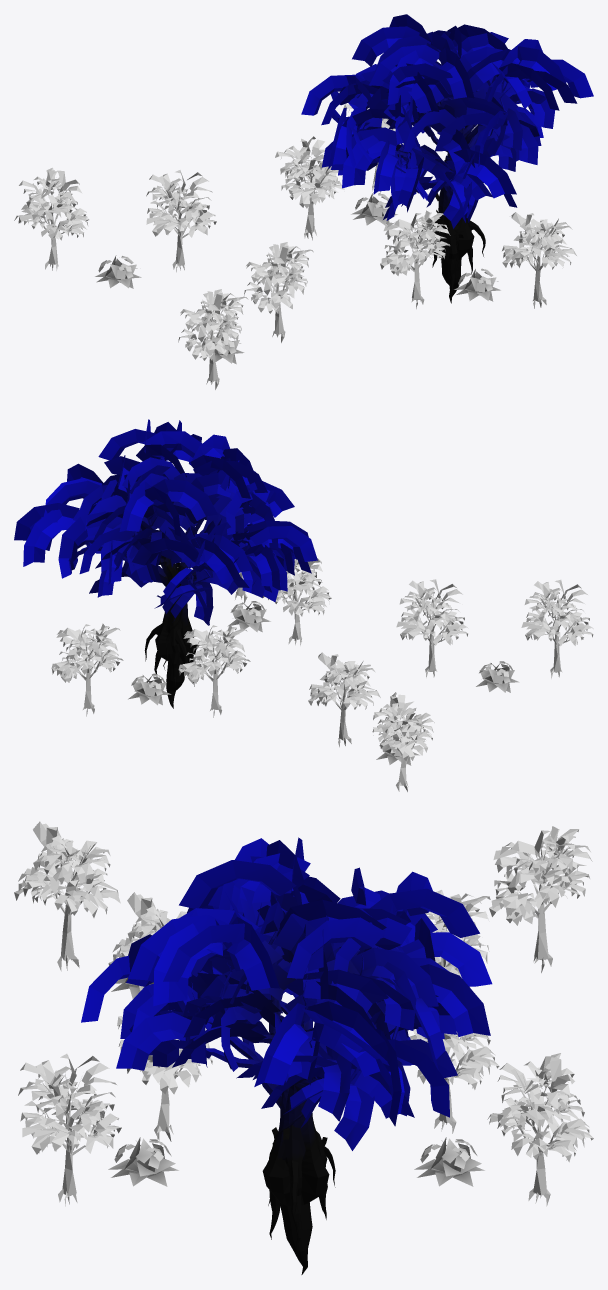
The model's file is STA_58.fbx.
3 views of the same model, one above another, from view 1: azimuth 30°, elevation 25°; view 2: azimuth 150°, elevation 25°; view 3: azimuth 270°, elevation 25° (orthographic). The views are drawn at different scales.
Visible parts, largest first — view 1: STA_58; view 2: STA_58; view 3: STA_58.
Part boxes in pixels (x1,y1,x2,y2): STA_58: [14, 14, 593, 389]; STA_58: [14, 419, 593, 791]; STA_58: [14, 821, 593, 1274].
Size of the model in its own units: 6734 by 3631 by 4736.
